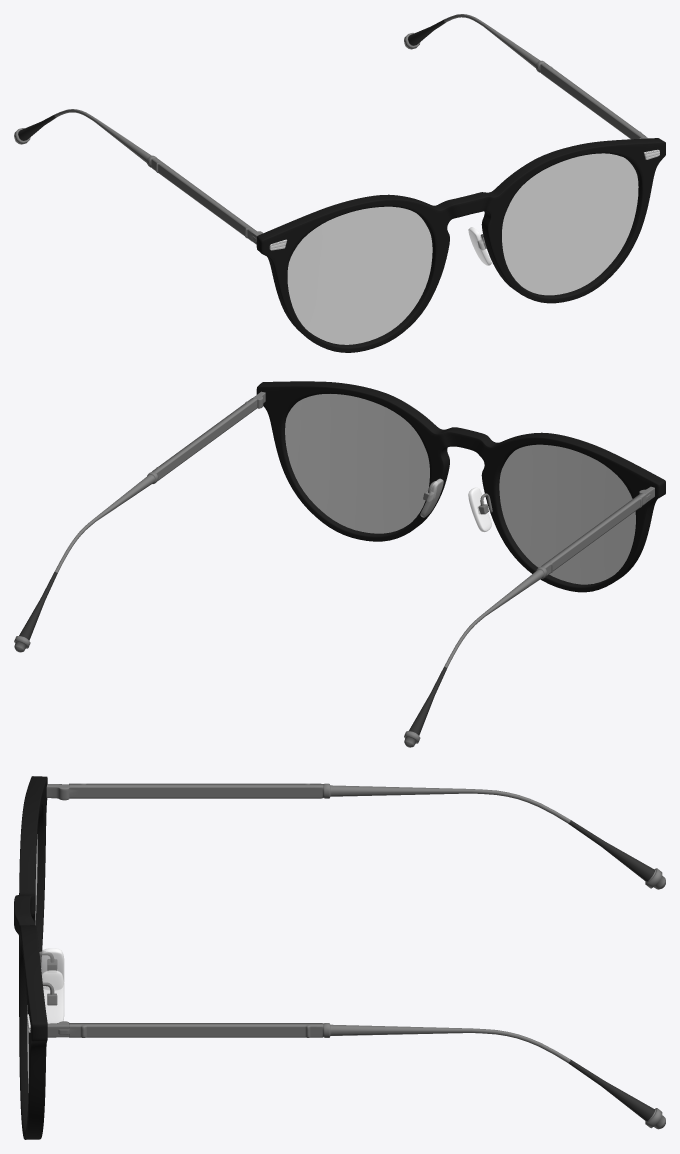
Rendered from matsuda.glb.
3 renders of one model, top to bottom at view 1: azimuth 30°, elevation 25°; view 2: azimuth 150°, elevation 25°; view 3: azimuth 270°, elevation 25°, orthographic. The views are drawn at different scales.
Parts seen in each view (by area): view 1: Plane_6, Cylinder.002_2, Cube.003_9, Cube.004_13; view 2: Plane_6, Cylinder.002_2, Cube.003_9, Cube.004_13, Cylinder.002_5, Cylinder.002_4; view 3: Cylinder.002_2, Cube.003_9, Cube.004_13, Cylinder.002_5, Cylinder.002_4, Cube.003_10, Cube.004_14.
Part boxes in pixels (x1=…): Plane_6: x1=287, y1=153, x2=638, y2=344; Cylinder.002_2: x1=256, y1=138, x2=665, y2=352; Cube.003_9: x1=14, y1=109, x2=256, y2=241; Cube.004_13: x1=404, y1=14, x2=645, y2=139; Plane_6: x1=285, y1=394, x2=635, y2=584; Cylinder.002_2: x1=256, y1=381, x2=665, y2=592; Cube.003_9: x1=404, y1=493, x2=650, y2=747; Cube.004_13: x1=14, y1=398, x2=257, y2=652; Cylinder.002_5: x1=420, y1=478, x2=491, y2=532; Cylinder.002_4: x1=253, y1=391, x2=654, y2=514; Cylinder.002_2: x1=14, y1=776, x2=47, y2=1139; Cube.003_9: x1=69, y1=783, x2=665, y2=889; Cube.004_13: x1=58, y1=1023, x2=665, y2=1129; Cylinder.002_5: x1=40, y1=948, x2=64, y2=1023; Cylinder.002_4: x1=39, y1=784, x2=69, y2=1037; Cube.003_10: x1=568, y1=820, x2=654, y2=881; Cube.004_14: x1=568, y1=1059, x2=654, y2=1121.
Bounding box in the file's own units: 0.1405 × 0.0491 × 0.1556.
Materials: 6 (1 with a texture image).
